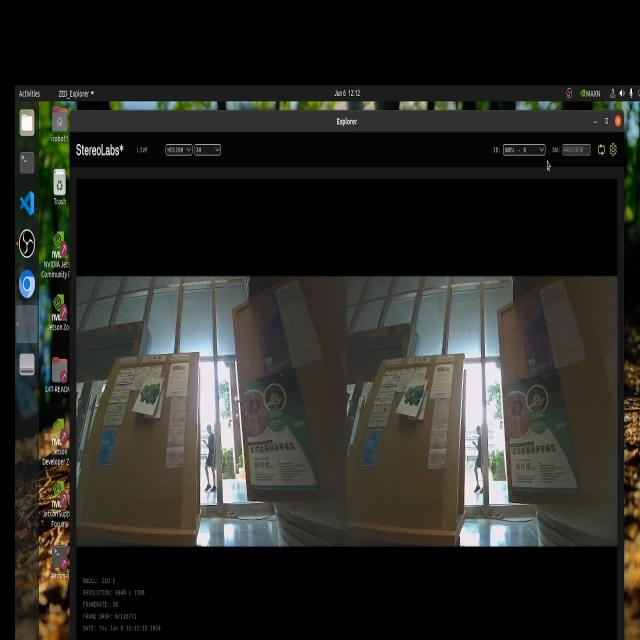green: (137, 375, 162, 410), (402, 376, 423, 416)
